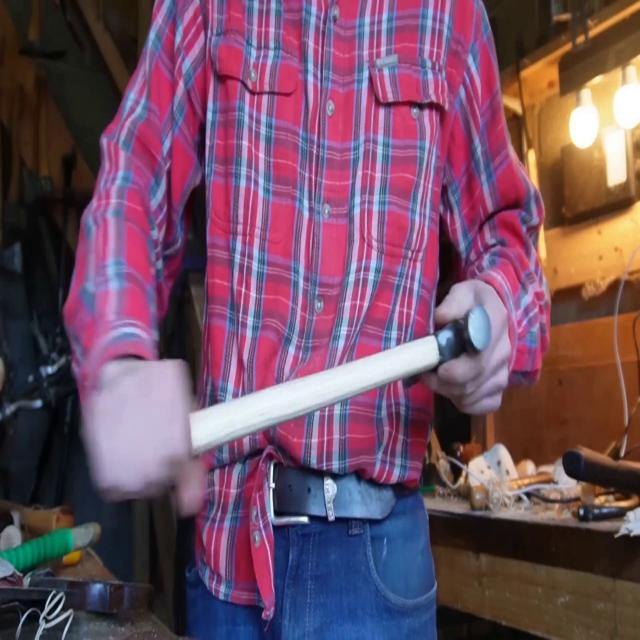hammer: (190, 307, 491, 452)
